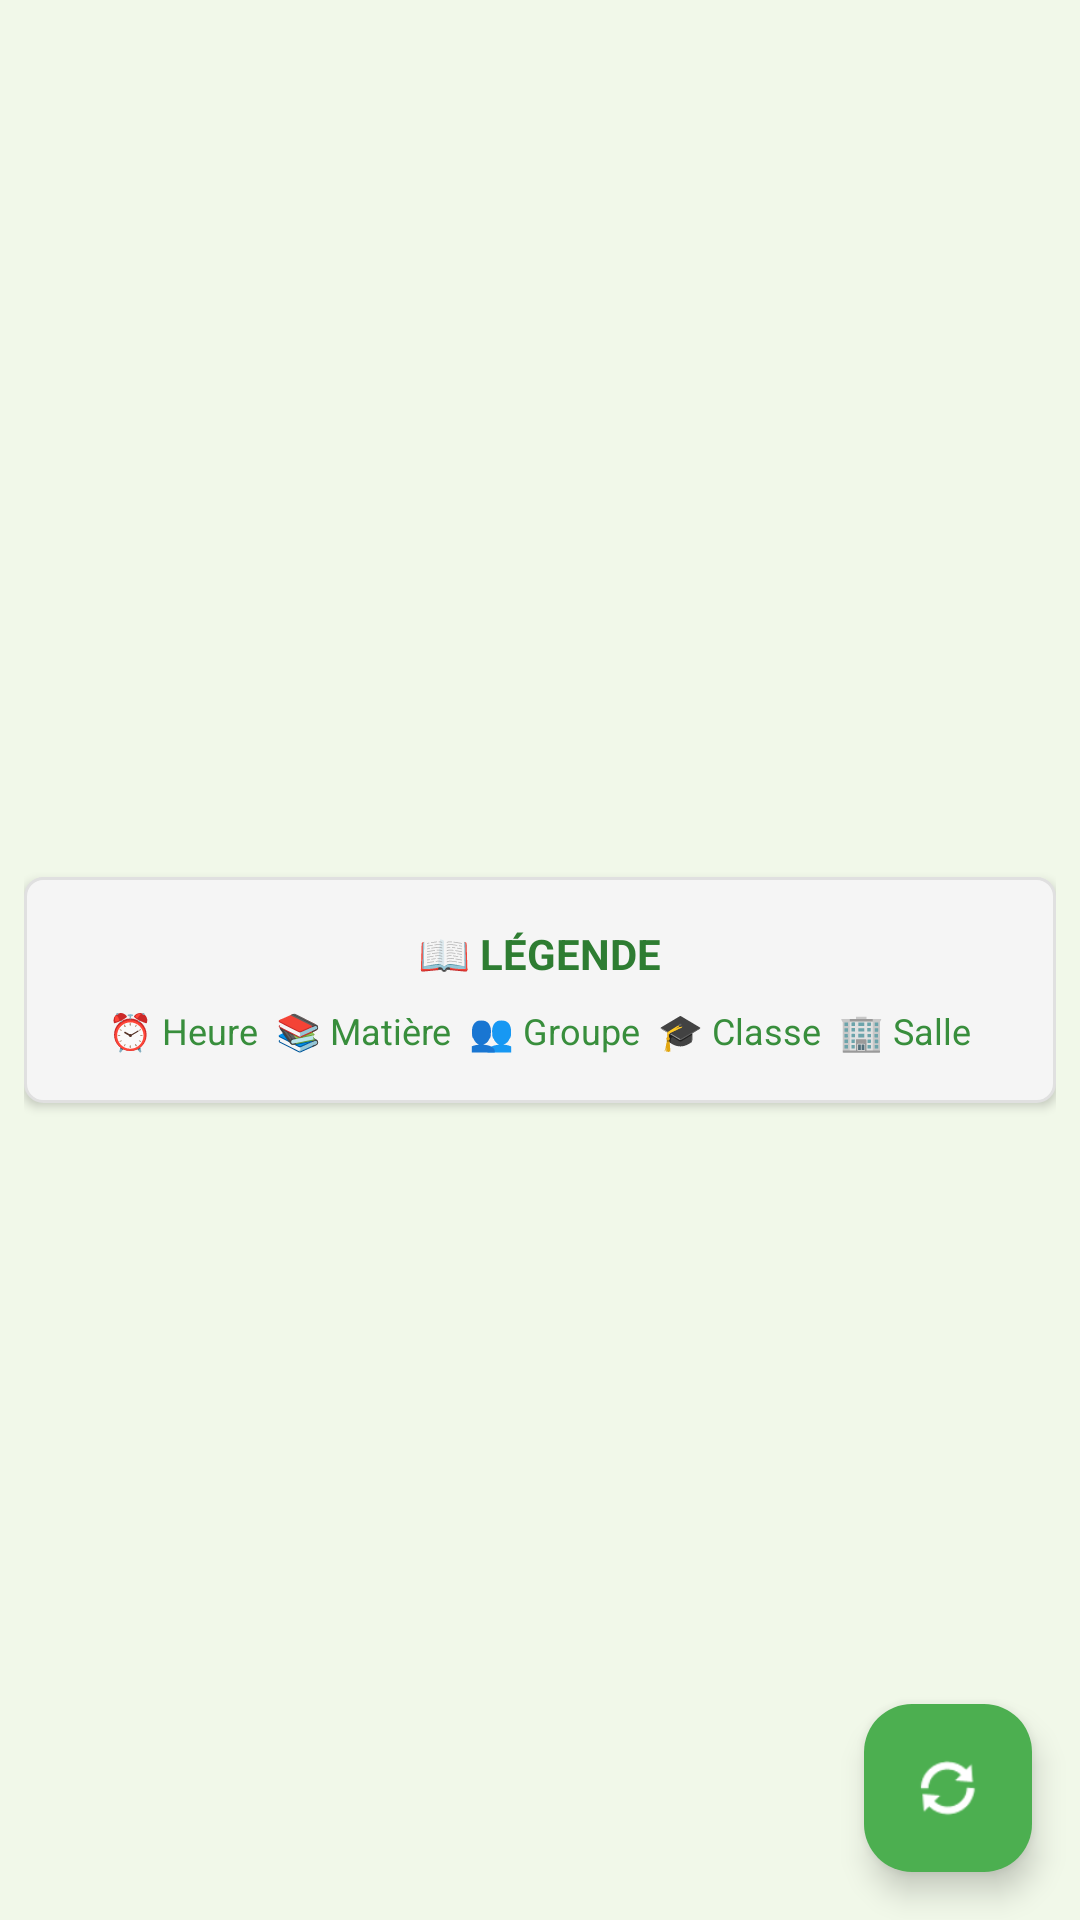

Point at icon controls on the screen. Image size 1080×1920, points as point (x, y).
Actualiser l'Emploi du Temps: point (948, 1788)
